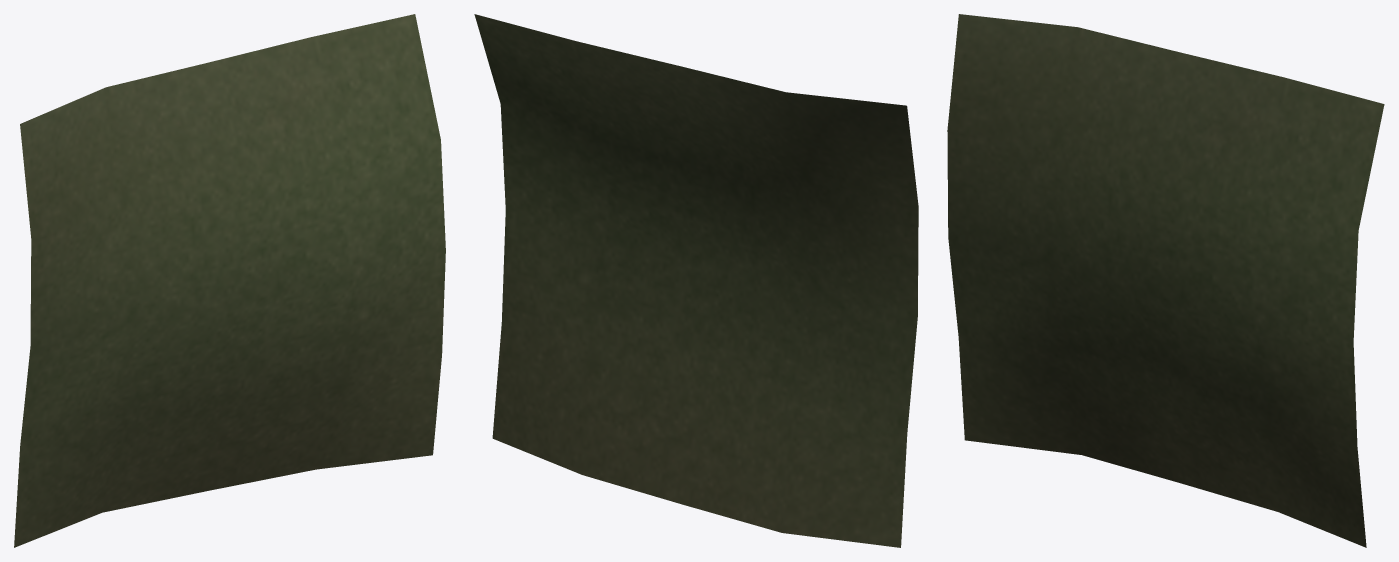
File: terrain_far_01_04.obj
3 views of the same model, side by side, from view 1: azimuth 30°, elevation 25°; view 2: azimuth 150°, elevation 25°; view 3: azimuth 330°, elevation 25° (orthographic). The views are drawn at different scales.
Parts seen in each view (by area): view 1: terrain_far_01_04; view 2: terrain_far_01_04; view 3: terrain_far_01_04.
Part boxes in pixels (box(x1,y1,x2,y2)): terrain_far_01_04: box(14, 14, 445, 547); terrain_far_01_04: box(474, 14, 918, 547); terrain_far_01_04: box(947, 14, 1384, 547).
Bounding box in the file's own units: 288 × 288 × 48.92.
Materials: 1 (1 with a texture image).
